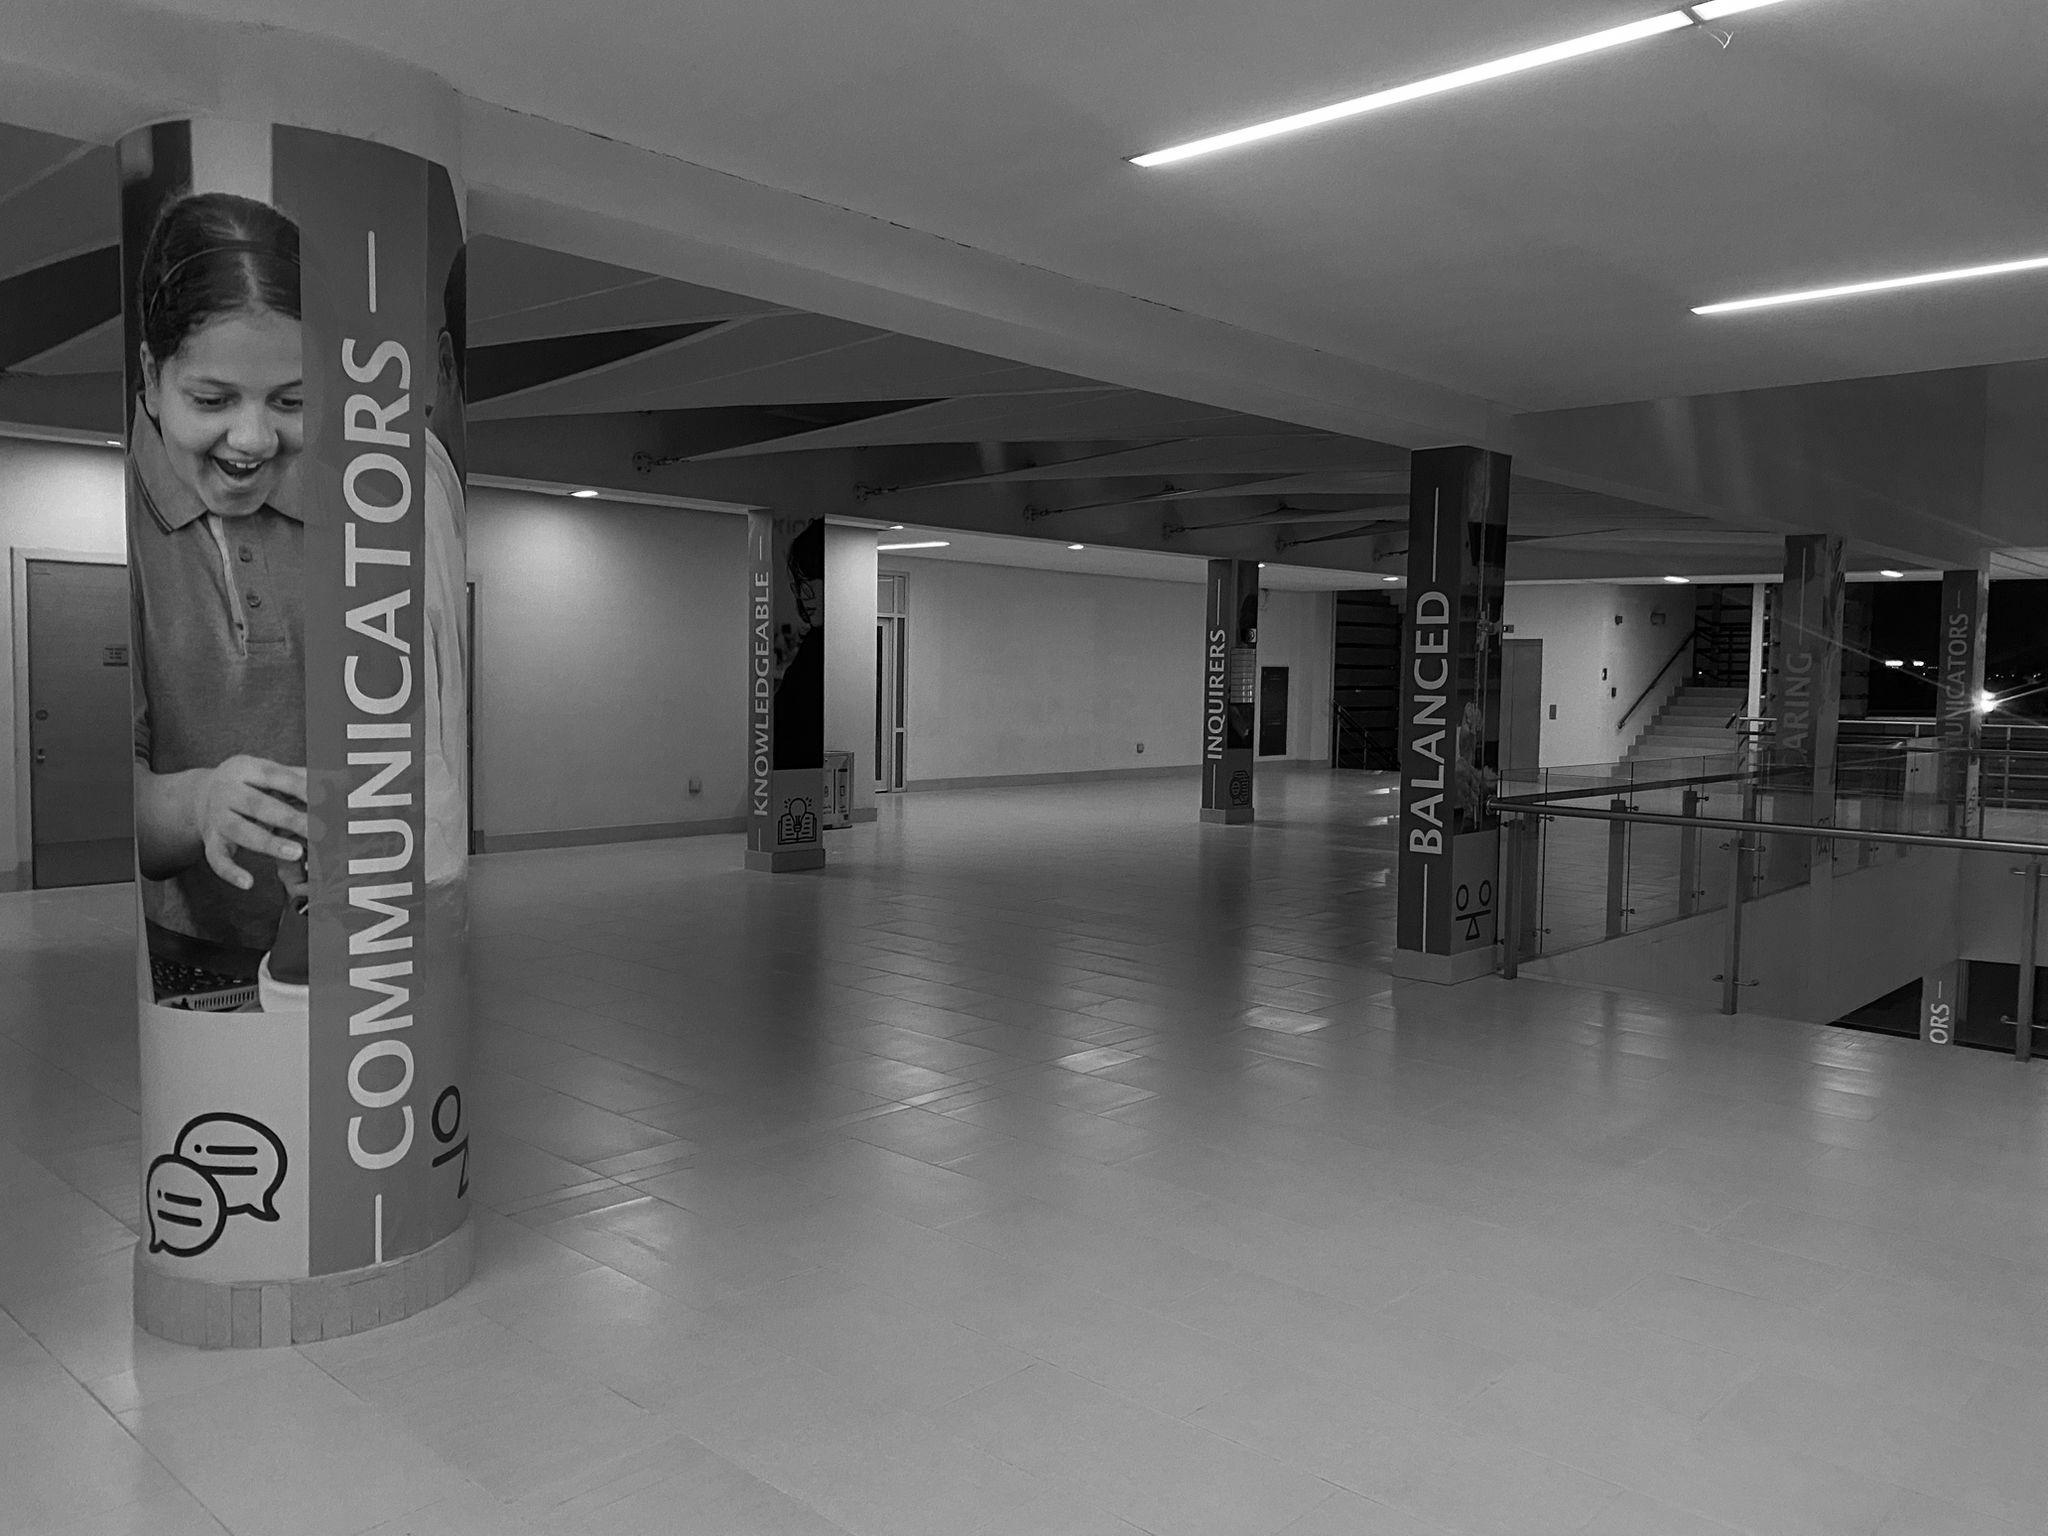Pillar: (124, 126, 468, 1304), (1397, 447, 1508, 962), (747, 510, 826, 866), (1774, 536, 1845, 760), (1203, 558, 1258, 818), (1935, 571, 1985, 744)
Wall: (468, 486, 751, 836), (906, 560, 1205, 787), (0, 439, 126, 847), (1503, 582, 1693, 766), (826, 524, 876, 805), (1258, 591, 1334, 765)
